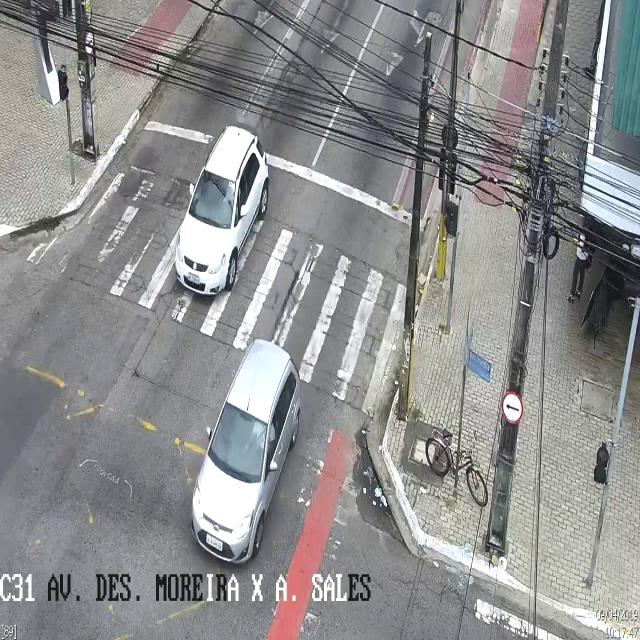Car: (191, 336, 299, 564), (176, 125, 270, 297)
